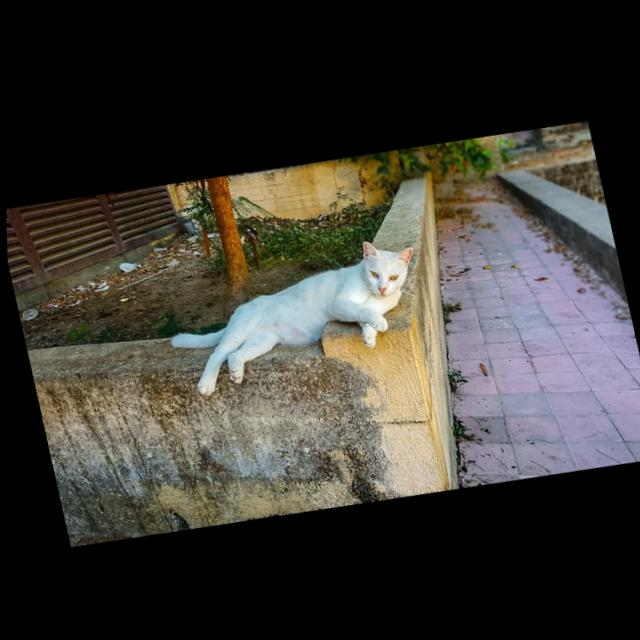animals: (169, 239, 418, 392)
